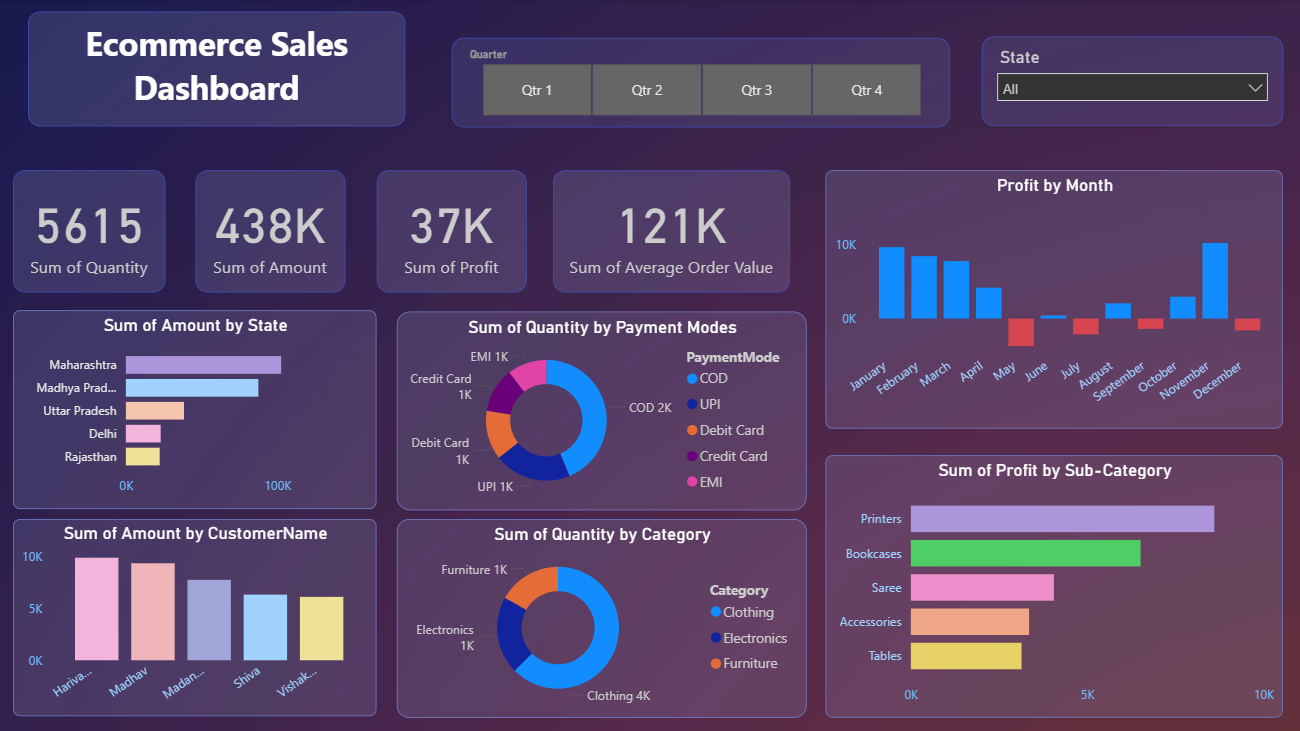

The page's visual inventory and layout, read from the dashboard file:
{"tool":"powerbi","page":{"name":"Page 1","canvas":[1280,720],"ordinal":0},"visuals":[{"type":"textbox","box":[29.4,12.3,370.6,112.9],"z":0},{"type":"columnChart","title":"Profit by Month","fields":{"Category":["Orders.Order Date.Variation.Date Hierarchy.Month"],"Y":["Details.Profit"]},"box":[812.3,168.1,449.1,254],"z":1000},{"type":"barChart","fields":{"Category":["Details.Sub-Category"],"Y":["Details.Profit"]},"box":[812.3,447.9,449.1,257.7],"z":2000},{"type":"donutChart","title":"Sum of Quantity by  Payment Modes","fields":{"Category":["Details.PaymentMode"],"Y":["Details.Quantity"]},"box":[391.4,306.8,402.5,195.1],"z":3000},{"type":"donutChart","title":"Sum of Quantity by Category","fields":{"Y":["Details.Quantity"],"Category":["Details.Category"]},"box":[391.4,510.4,402.5,195.1],"z":4000},{"type":"card","fields":{"Values":["Details.Profit"]},"box":[371.8,168.1,147.2,120.2],"z":5000},{"type":"card","fields":{"Values":["Details.Amount"]},"box":[193.9,168.1,147.2,120.2],"z":6000},{"type":"card","fields":{"Values":["Details.AOV"]},"box":[544.8,168.1,233.1,120.2],"z":7000},{"type":"card","fields":{"Values":["Details.Quantity"]},"box":[14.7,168.1,149.7,120.2],"z":8000},{"type":"barChart","fields":{"Y":["Details.Amount"],"Category":["Orders.State"]},"box":[14.7,305.5,357.1,195.1],"z":9000},{"type":"columnChart","fields":{"Category":["Orders.CustomerName"],"Y":["Details.Amount"]},"box":[14.7,510.4,357.1,193.9],"z":10000},{"type":"slicer","fields":{"Values":["Orders.Order Date.Variation.Date Hierarchy.Quarter"]},"box":[445.8,37.5,489.1,88],"z":11000},{"type":"slicer","fields":{"Values":["Orders.State"]},"box":[965.6,36.8,295.7,88.3],"z":12000}]}

Visuals, with their boxes in screenshot pixels (x1, y1, x2, y2), scaled from the page's 1280x720 canvas onto the 1300x731 screenshot:
textbox: (left=30, top=12, right=406, bottom=127)
"Profit by Month" columnChart: (left=825, top=171, right=1281, bottom=429)
barChart - Details.Sub-Category x Details.Profit: (left=825, top=455, right=1281, bottom=716)
"Sum of Quantity by  Payment Modes" donutChart: (left=398, top=311, right=806, bottom=510)
"Sum of Quantity by Category" donutChart: (left=398, top=518, right=806, bottom=716)
card - Details.Profit: (left=378, top=171, right=527, bottom=293)
card - Details.Amount: (left=197, top=171, right=346, bottom=293)
card - Details.AOV: (left=553, top=171, right=790, bottom=293)
card - Details.Quantity: (left=15, top=171, right=167, bottom=293)
barChart - Details.Amount x Orders.State: (left=15, top=310, right=378, bottom=508)
columnChart - Orders.CustomerName x Details.Amount: (left=15, top=518, right=378, bottom=715)
slicer - Orders.Order Date.Variation.Date Hierarchy.Quarter: (left=453, top=38, right=950, bottom=127)
slicer - Orders.State: (left=981, top=37, right=1281, bottom=127)
